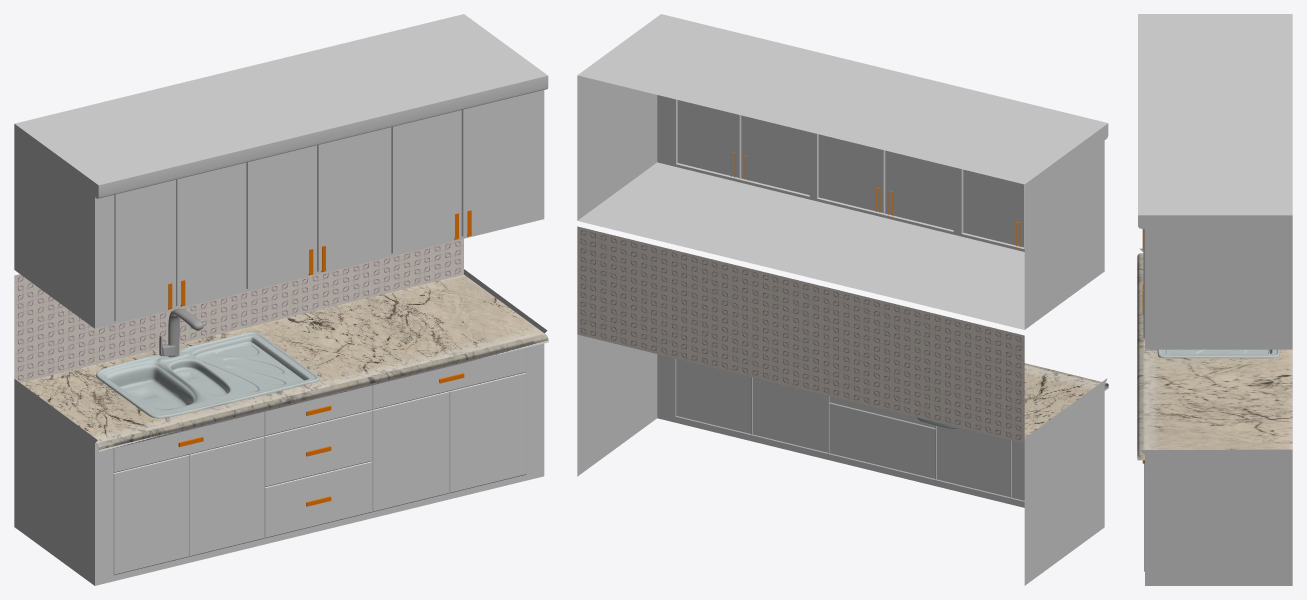
Rendered from kitchen_cabinet_1.glb.
3 views of the same model, side by side, from view 1: azimuth 30°, elevation 25°; view 2: azimuth 150°, elevation 25°; view 3: azimuth 270°, elevation 25° (orthographic). The views are drawn at different scales.
Visible parts, largest first — view 1: Box001, Plane001, Box013; view 2: Box001; view 3: Box001, Plane001.
Part boxes in pixels (x1,y1,x2,y2): Box001: [14, 14, 548, 585]; Plane001: [95, 331, 319, 418]; Box013: [168, 308, 203, 357]; Box001: [577, 14, 1108, 585]; Box001: [1137, 14, 1292, 585]; Plane001: [1157, 349, 1280, 358].
Size of the model in its own units: 2.75 by 2.36 by 0.897.
Materials: 6 (2 with a texture image).
